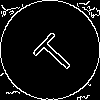T: (25, 25, 79, 78)
